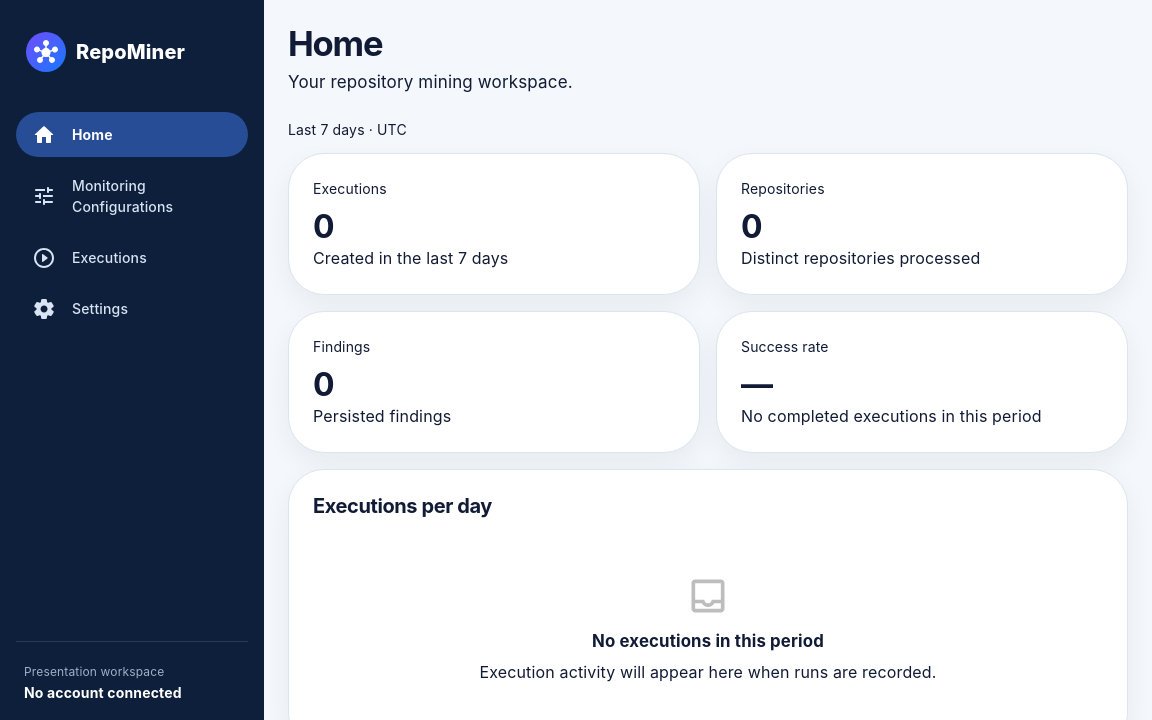
primary routes › navigates synchronously from main navigation
Click the link "Executions". click: click(89, 258)
box: [32,246,147,270]
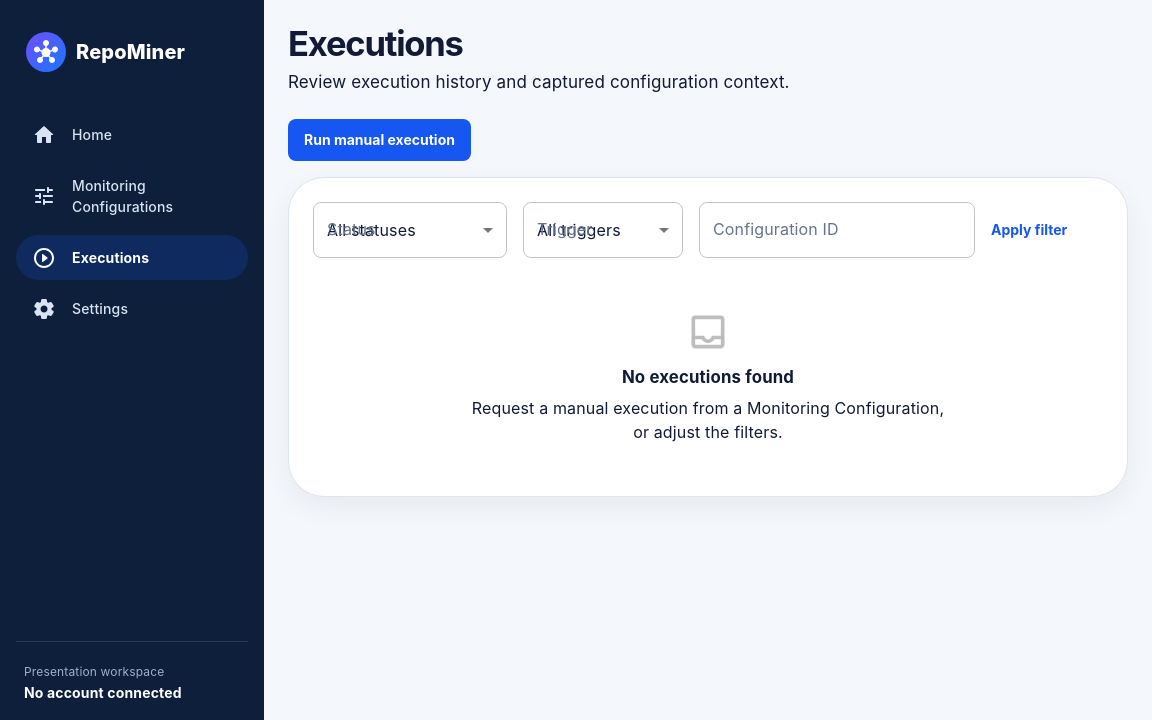
Expected: the heading "Executions" is shown, [288,24,463,64]
